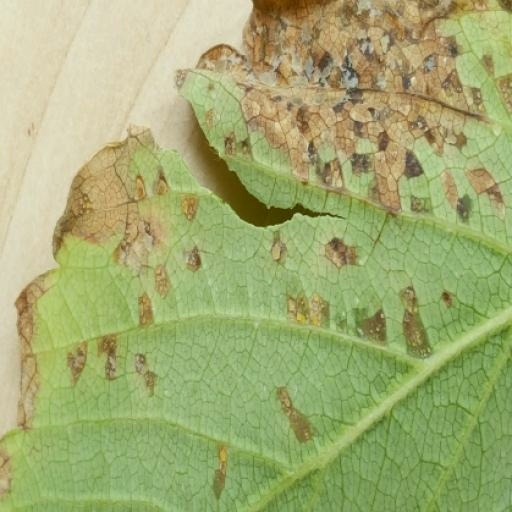Angular Leafspot: (0, 2, 511, 511)
